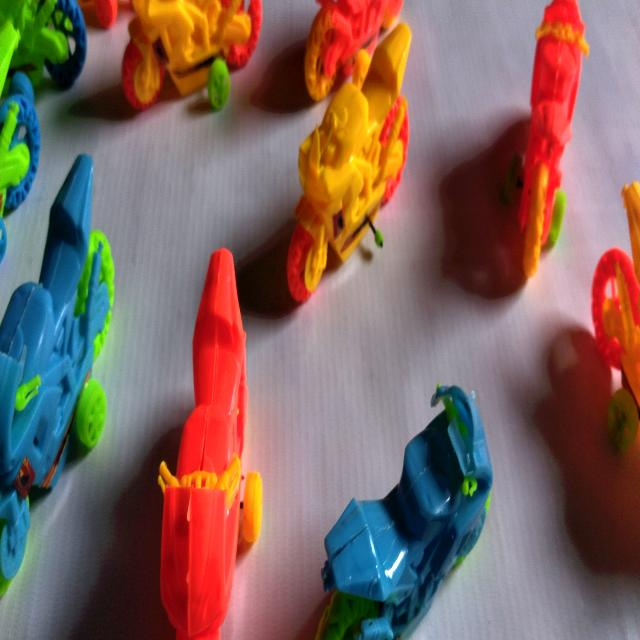bikes: (0, 154, 114, 594), (316, 384, 492, 640), (158, 249, 262, 638), (288, 22, 411, 300), (519, 0, 589, 278), (121, 0, 261, 109)
